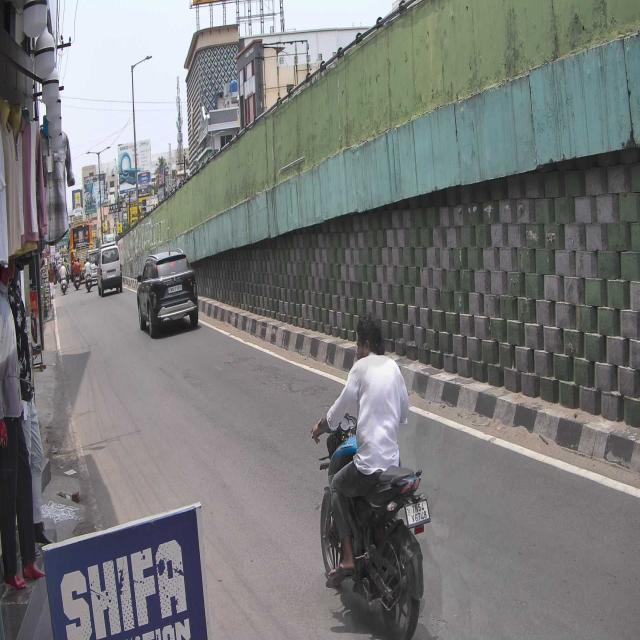single_rider: (312, 312, 432, 640)
